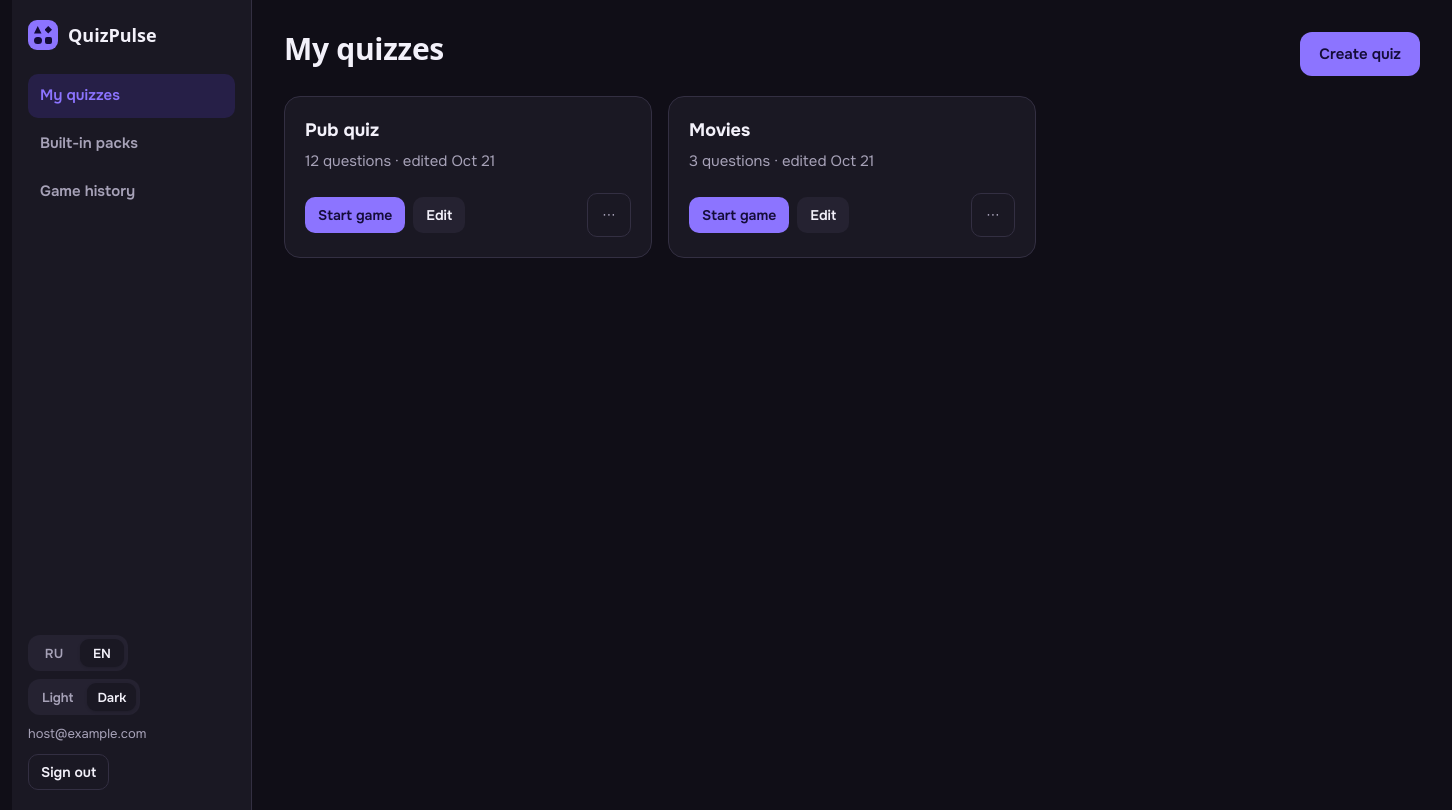
Test case: quizzes page › create quiz posts a valid default quiz and opens the editor
Check: the heading "Pub quiz" is shown, box [305,119,379,141]
Click the button "Create quiz" at (1360, 54), box [1300,32,1420,76]
(page scrolled)
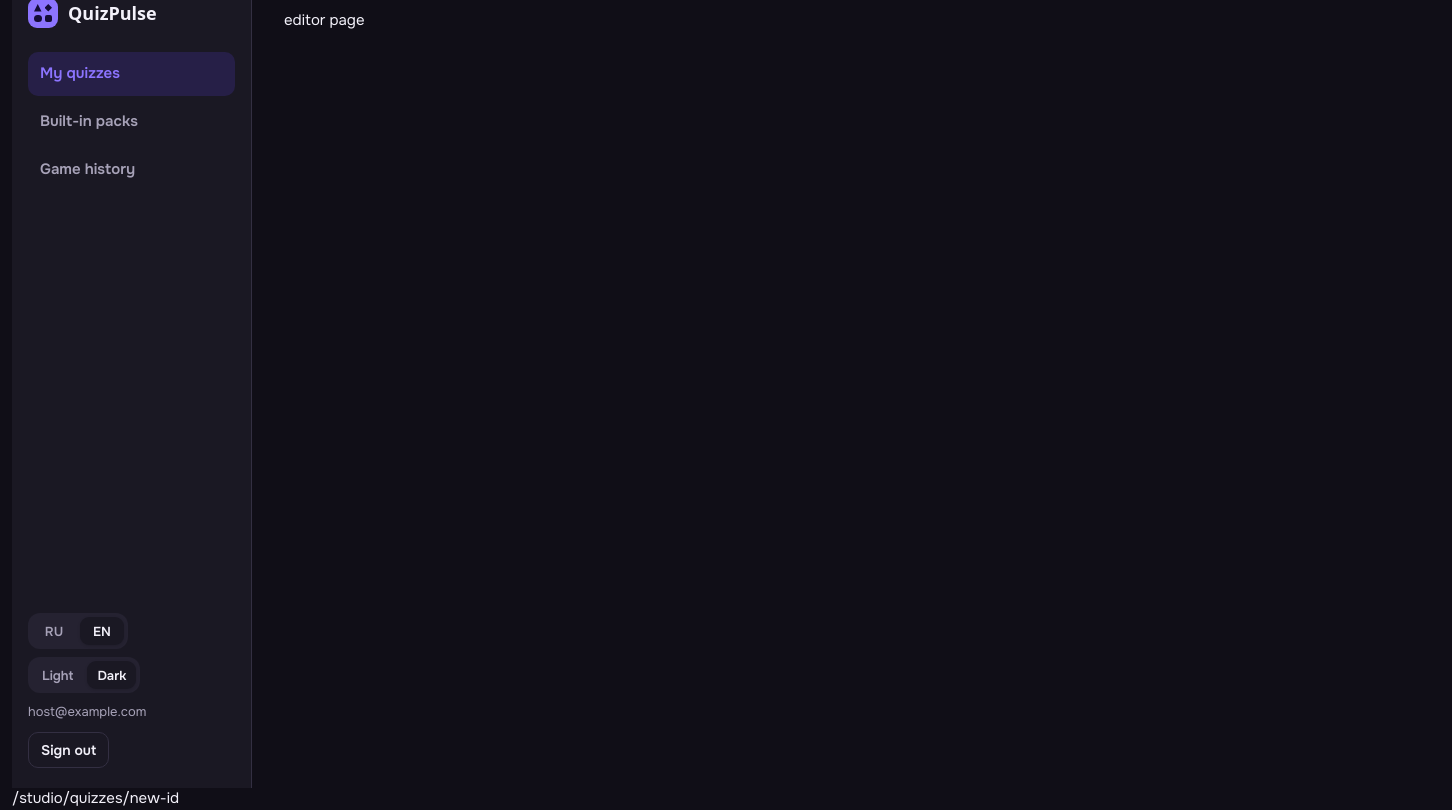
Check: the text with test id "where" reads "/studio/quizzes/new-id", box [12,788,179,808]
